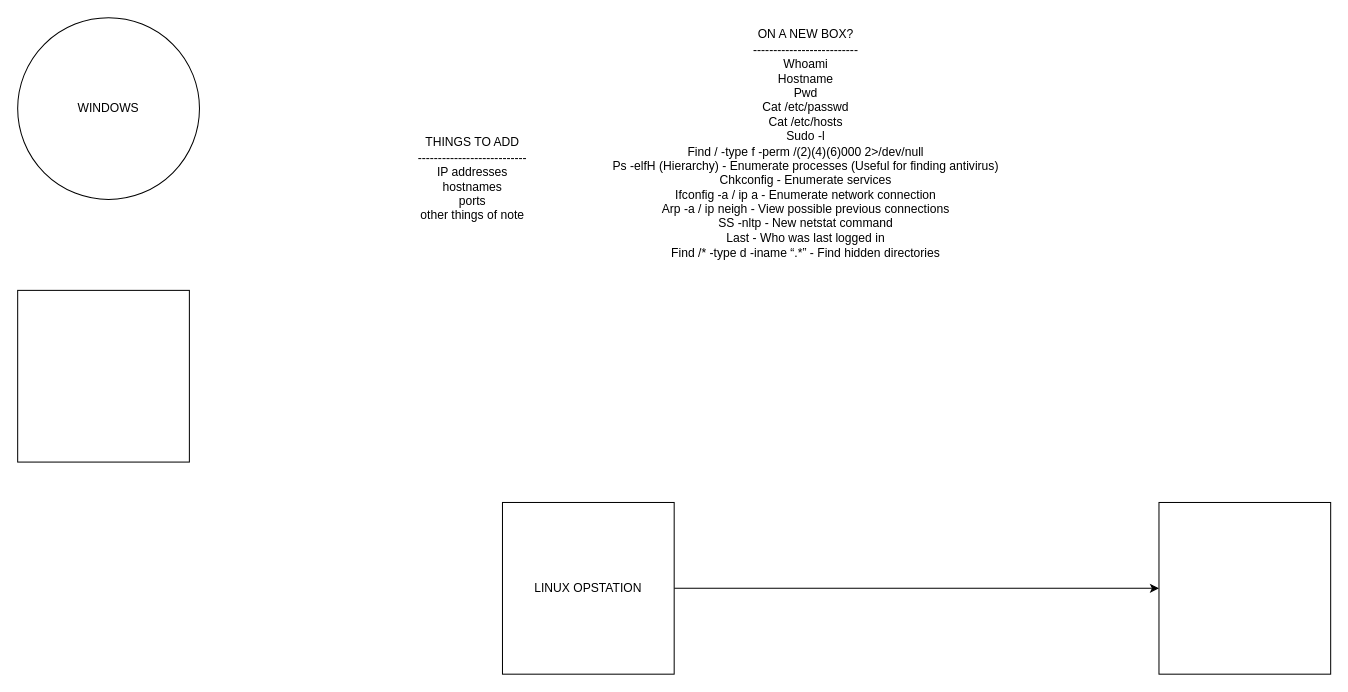
The diagram is 1348 pixels wide and 692 high, and some of its shapes have lost their labels. The centre of each missing label's shape, as x and y in pixels:
"GREYHOST" belongs at point (1244, 587).
"LINUX" belongs at point (103, 375).
